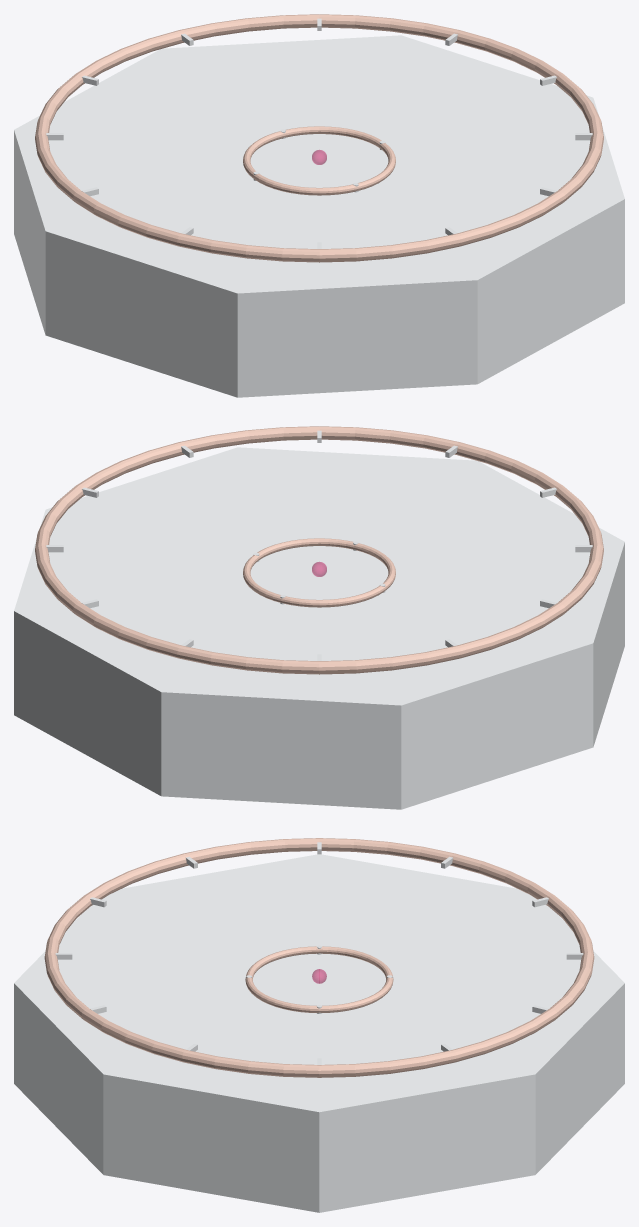
The model's file is project_tourbillon_timepiece.glb.
3 renders of one model, top to bottom at view 1: azimuth 30°, elevation 25°; view 2: azimuth 150°, elevation 25°; view 3: azimuth 270°, elevation 25°, orthographic. The views are drawn at different scales.
Visible parts, largest first — view 1: Sapphire_Case, Hour_Index_Ring, Tourbillon_Balance_Wheel; view 2: Sapphire_Case, Hour_Index_Ring, Tourbillon_Balance_Wheel; view 3: Sapphire_Case, Hour_Index_Ring, Tourbillon_Balance_Wheel.
Boxes of the visible parts, x1,y1,x2,y2 form: Sapphire_Case: (14,35,624,397); Hour_Index_Ring: (35,14,603,262); Tourbillon_Balance_Wheel: (243,126,395,195); Sapphire_Case: (14,447,624,809); Hour_Index_Ring: (35,426,603,674); Tourbillon_Balance_Wheel: (243,538,395,607); Sapphire_Case: (14,854,624,1212); Hour_Index_Ring: (44,838,594,1077); Tourbillon_Balance_Wheel: (245,946,393,1012).
Bounding box in the file's own units: 3.3 × 0.785 × 3.3.
